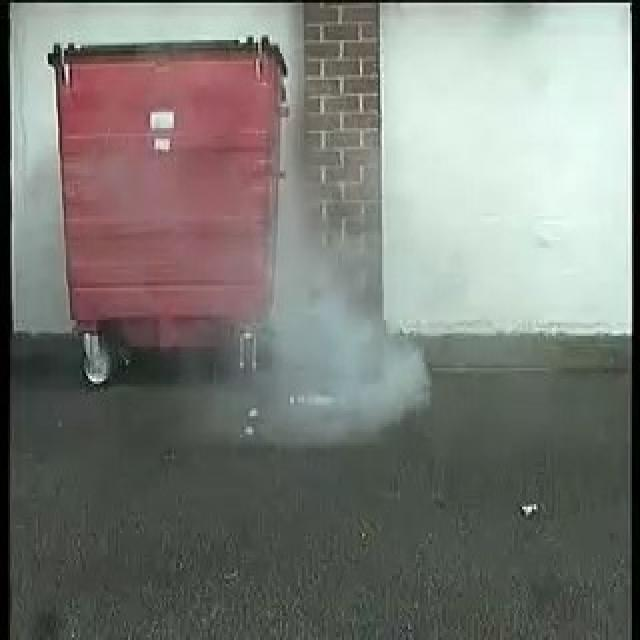smoke: (269, 243, 429, 433)
